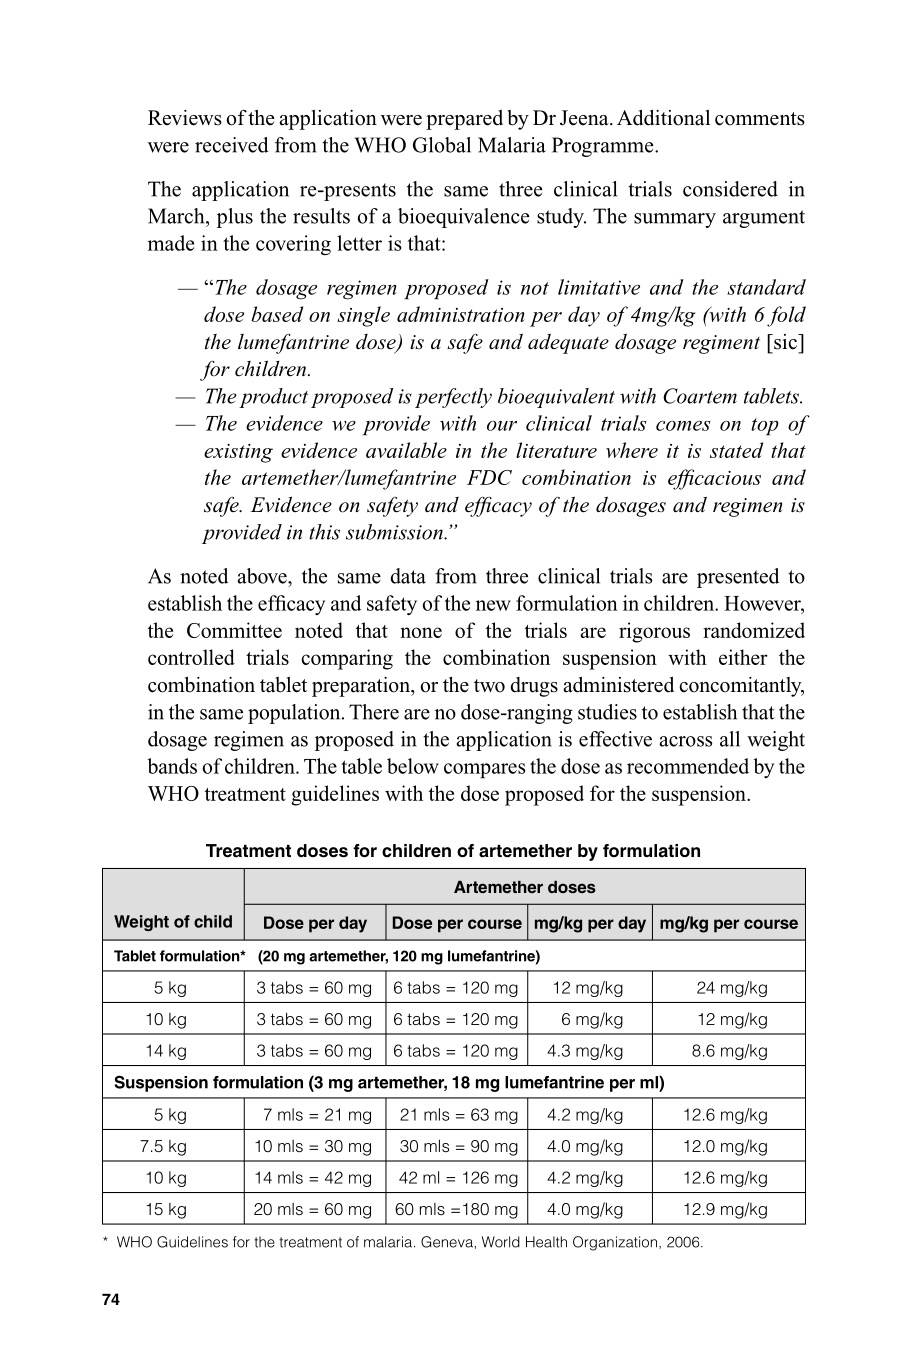merged_cells: (101, 867, 807, 1226)
